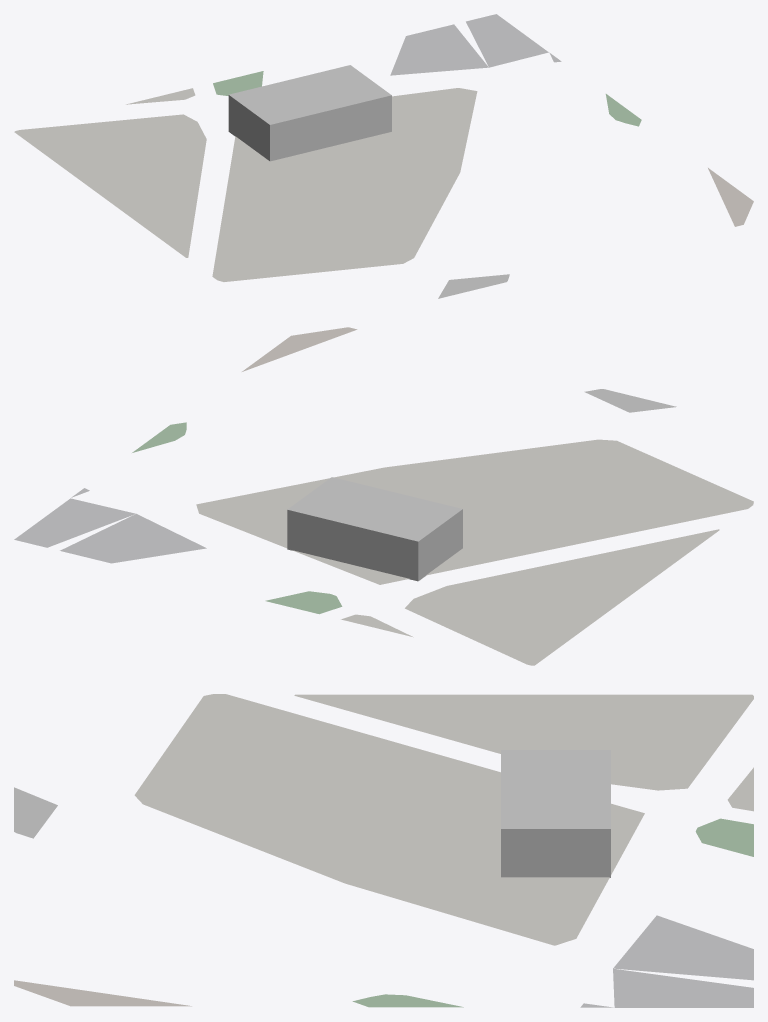
File: 103_114_mid.glb
The picture shows the model from 3 angles, top to bottom: view 1: azimuth 30°, elevation 25°; view 2: azimuth 150°, elevation 25°; view 3: azimuth 270°, elevation 25°; orthographic projection. The views are drawn at different scales.
Size of the model in its own units: 500 by 36.91 by 500.
